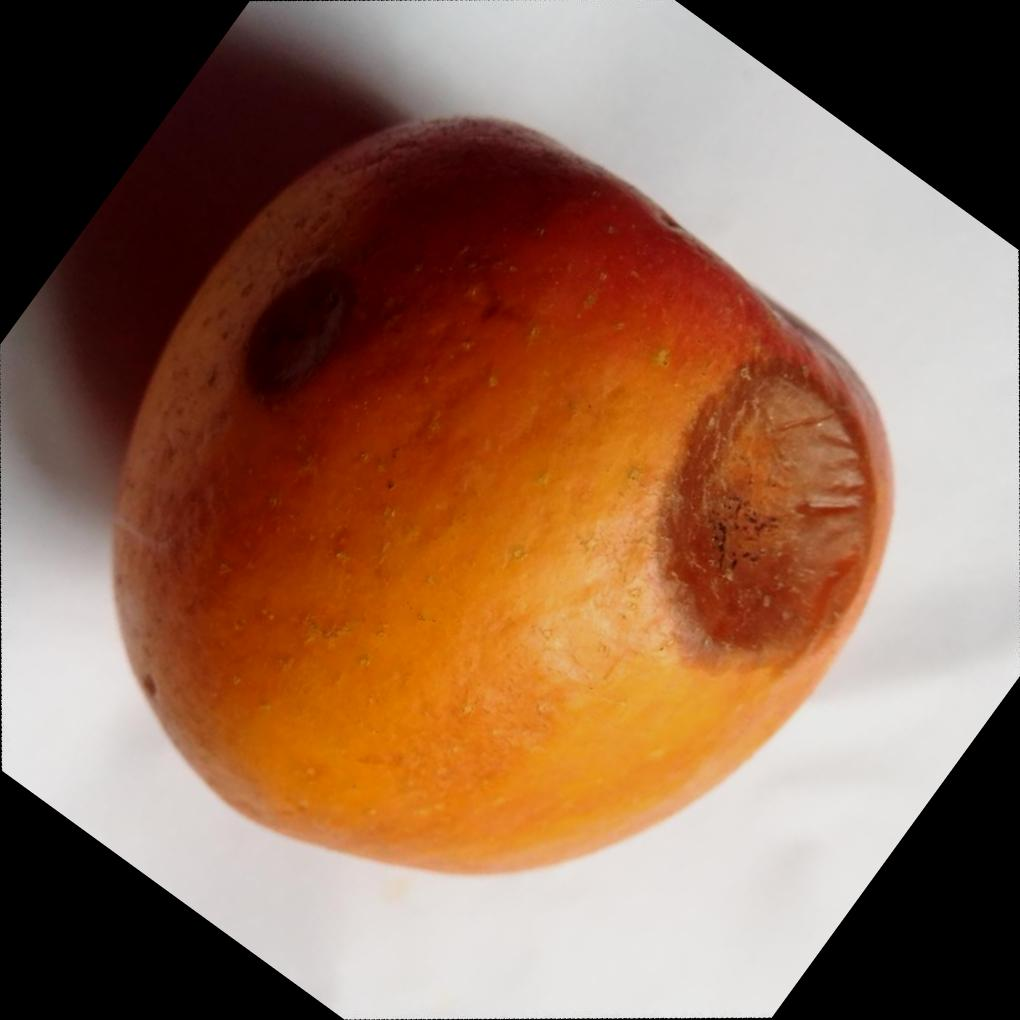FreshOrange: (108, 114, 900, 881)
